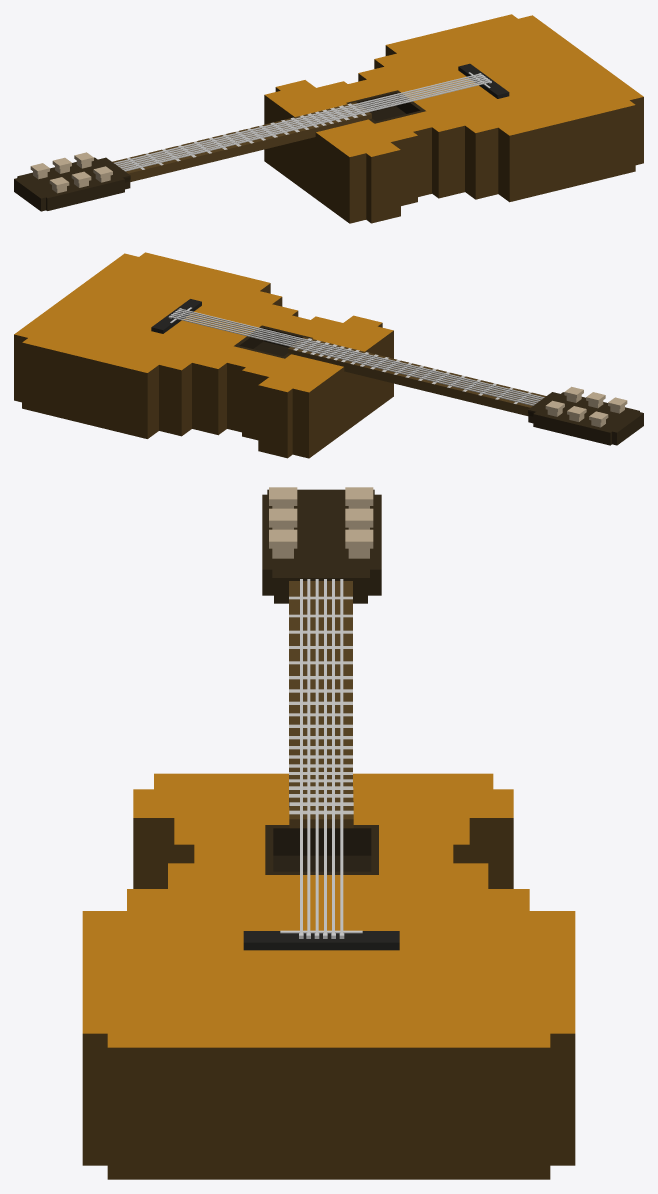
3 renders of one model, top to bottom at view 1: azimuth 30°, elevation 25°; view 2: azimuth 150°, elevation 25°; view 3: azimuth 270°, elevation 25°, orthographic. The views are drawn at different scales.
Visible parts, largest first — view 1: Box002; view 2: Box002; view 3: Box002.
Part boxes in pixels (x1=…): Box002: x1=14, y1=14, x2=643, y2=223; Box002: x1=14, y1=252, x2=643, y2=458; Box002: x1=82, y1=487, x2=575, y2=1179.
Size of the model in its own units: 54.59 by 7.58 by 20.83.
Materials: 1 (1 with a texture image).
